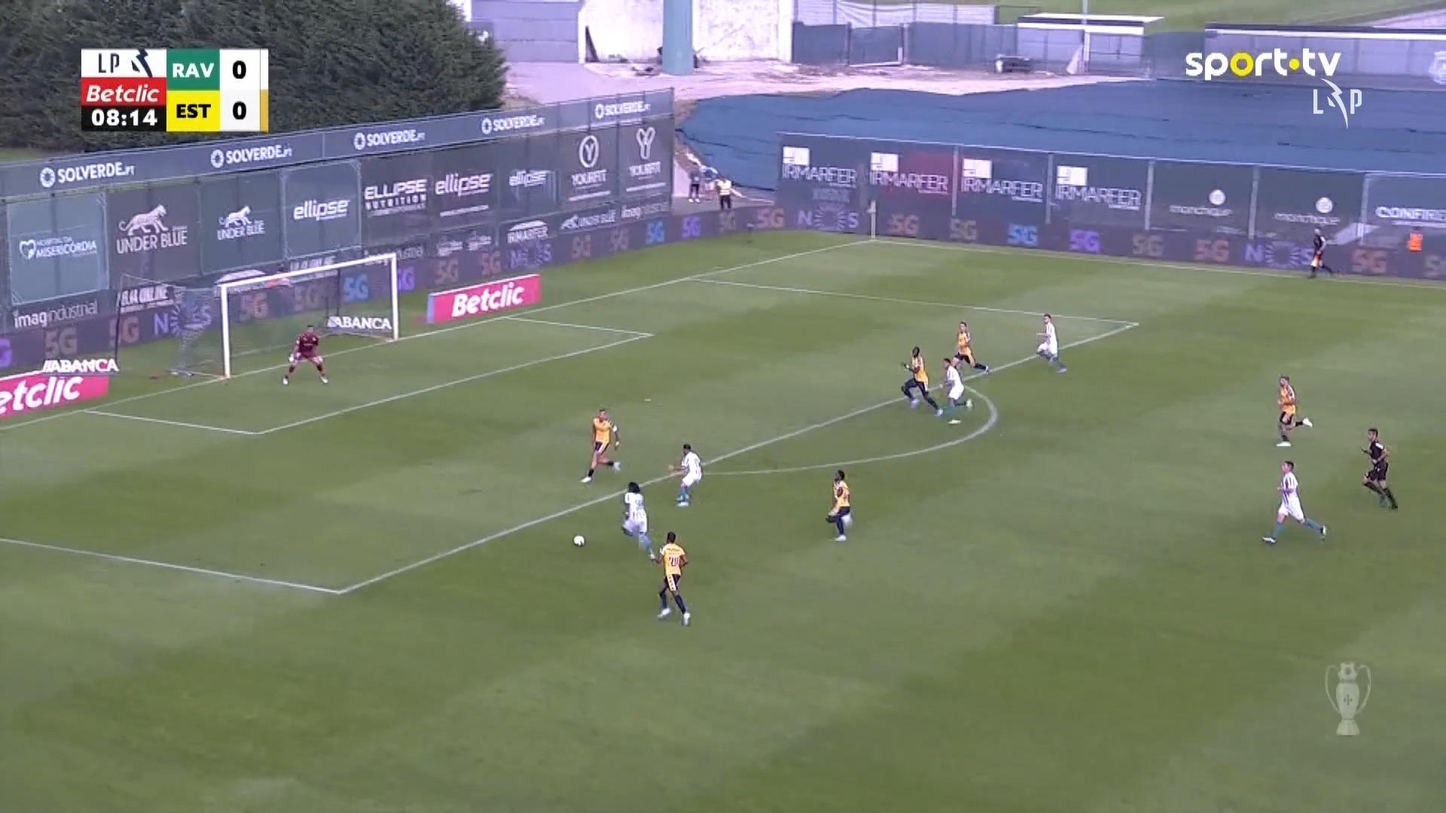ball: (572, 534, 584, 547)
goalkeeper: (281, 324, 328, 385)
player: (1261, 458, 1328, 544), (655, 530, 691, 626), (620, 480, 658, 563), (579, 408, 621, 483), (899, 345, 943, 416), (1274, 373, 1312, 446), (668, 443, 703, 506), (953, 319, 990, 376), (825, 469, 852, 541), (938, 356, 973, 410), (1035, 312, 1066, 372)
referee: (1359, 427, 1398, 509), (1307, 227, 1335, 278)
